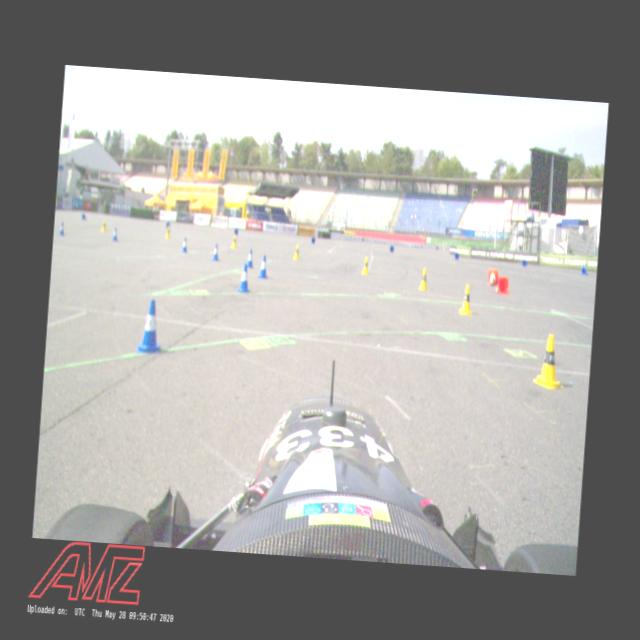blue_cone: (135, 296, 165, 355), (236, 262, 252, 294), (256, 254, 269, 279), (244, 248, 255, 268), (210, 242, 220, 262), (110, 224, 120, 243), (57, 220, 65, 237), (180, 236, 188, 252), (580, 265, 589, 276)
orange_cone: (494, 276, 510, 296), (486, 267, 499, 287)
yellow_cone: (532, 332, 566, 391), (458, 282, 474, 316), (416, 266, 429, 292), (360, 255, 370, 276), (292, 242, 300, 261), (230, 233, 238, 250), (164, 224, 172, 238), (100, 218, 106, 232)
